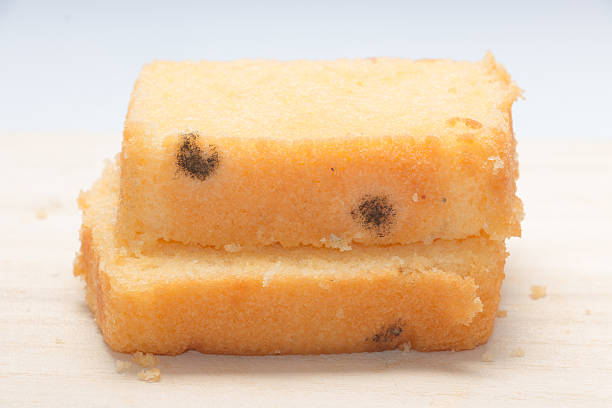mold_bread: (165, 130, 226, 182), (351, 191, 402, 244), (364, 316, 408, 355)
